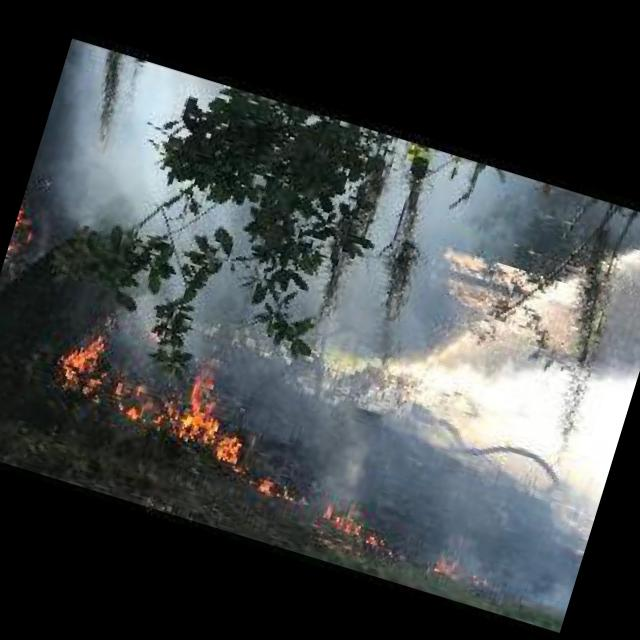fire: (46, 318, 275, 474), (0, 192, 46, 298), (322, 498, 401, 554), (432, 548, 506, 597), (260, 469, 316, 510)
